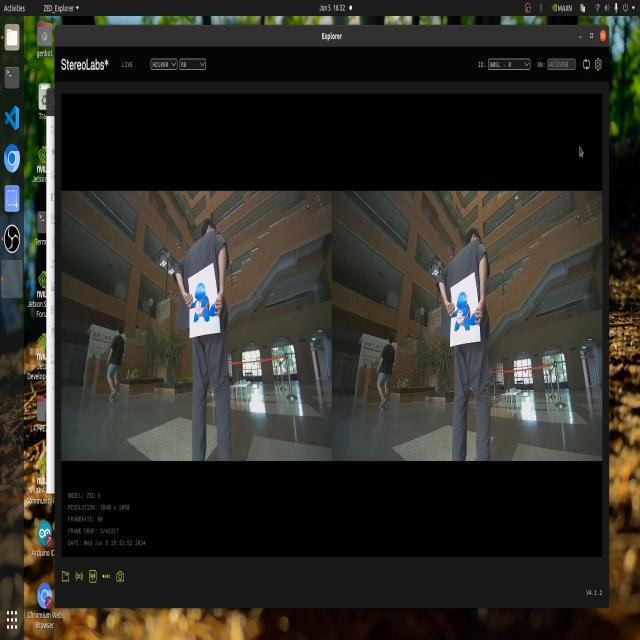blue: (449, 286, 479, 346), (191, 287, 222, 330)
